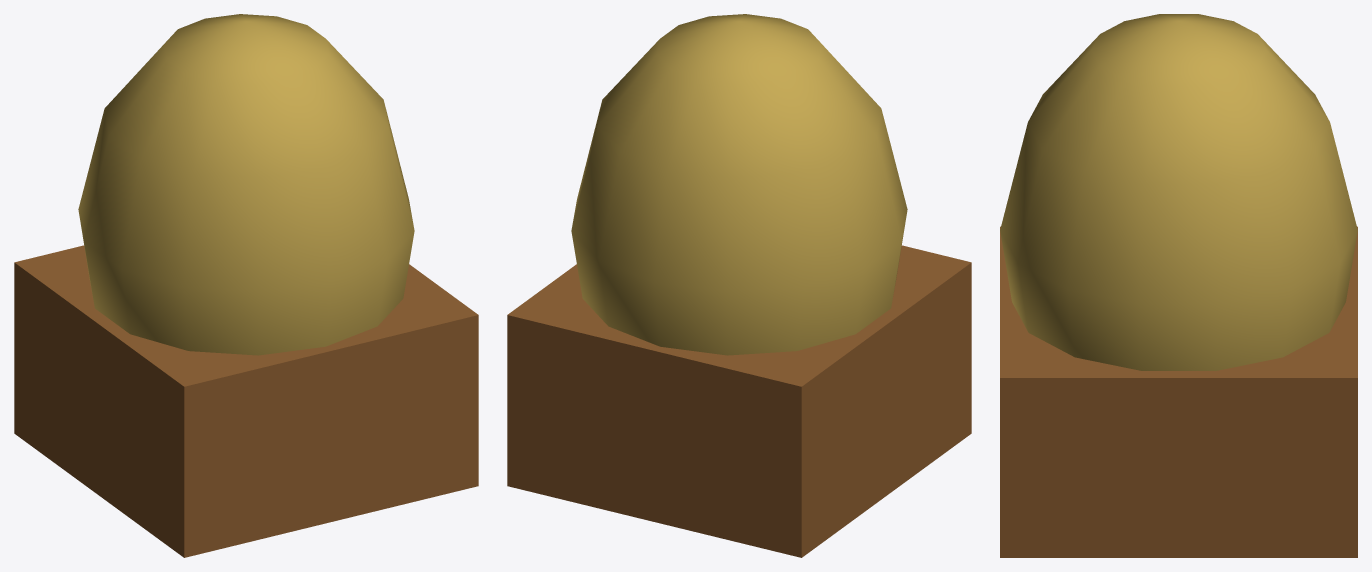
The model's file is beehive_skep.glb.
3 views of the same model, side by side, from view 1: azimuth 30°, elevation 25°; view 2: azimuth 150°, elevation 25°; view 3: azimuth 270°, elevation 25° (orthographic). The views are drawn at different scales.
Parts seen in each view (by area): view 1: decor-beehive_skep; view 2: decor-beehive_skep; view 3: decor-beehive_skep.
Boxes of the visible parts, x1,y1,x2,y2 form: decor-beehive_skep: (14,14,478,557); decor-beehive_skep: (507,14,971,557); decor-beehive_skep: (1000,14,1357,557).
Size of the model in its own units: 0.8999 by 1.28 by 0.8999.
